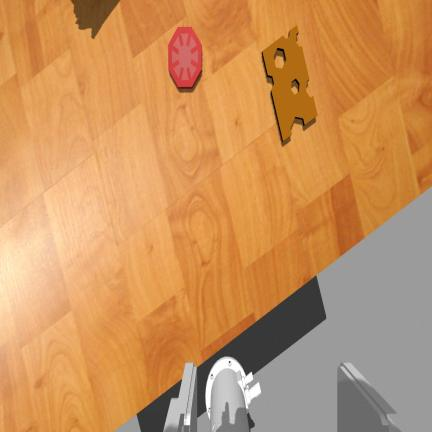cheese: (262, 26, 317, 140)
sliced_tomato: (168, 27, 201, 87)
